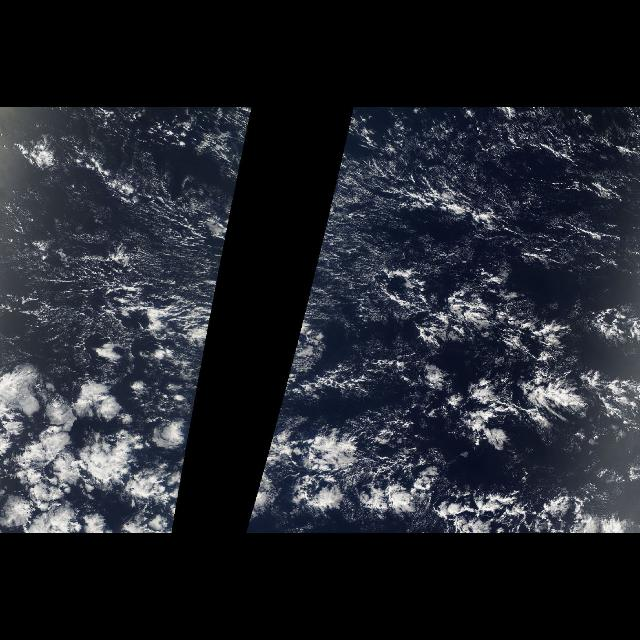Flower: (245, 371, 522, 534), (0, 357, 204, 533)
Gravel: (328, 108, 636, 454), (4, 117, 218, 333)
Sugar: (305, 111, 635, 309), (0, 111, 252, 309)
